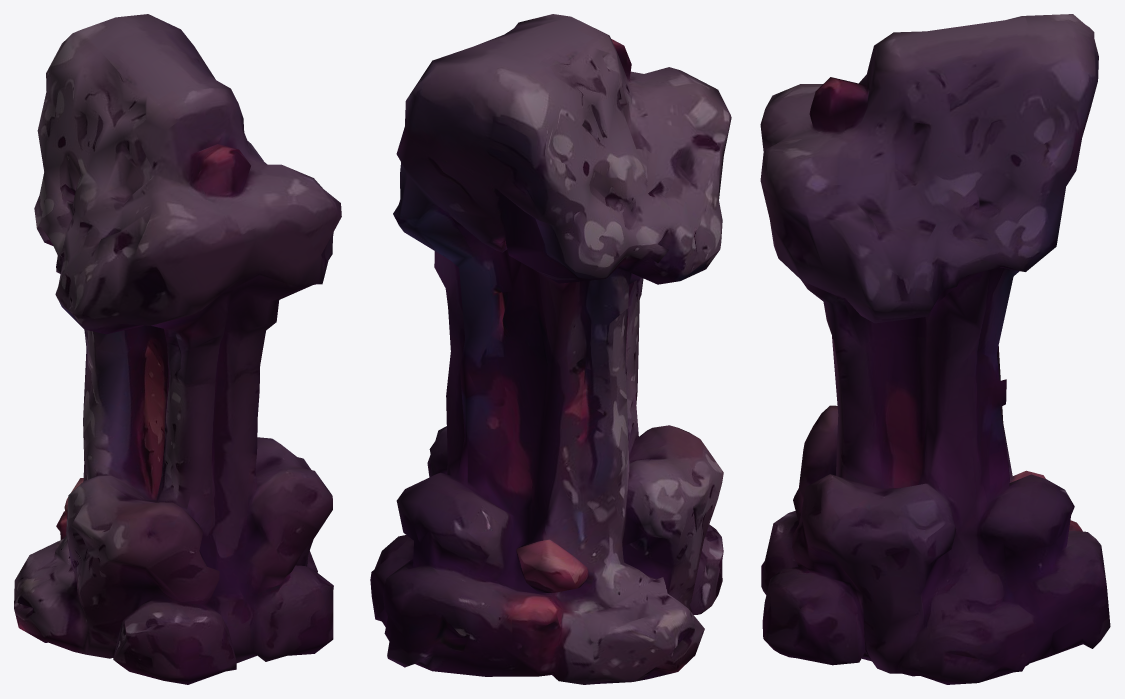
Rendered from cave-pillar.glb.
3 views of the same model, side by side, from view 1: azimuth 30°, elevation 25°; view 2: azimuth 150°, elevation 25°; view 3: azimuth 270°, elevation 25° (orthographic). The views are drawn at different scales.
Visible parts, largest first — view 1: tripo_node_22b96e52-1a63-4348-8482-c325ea6f3005; view 2: tripo_node_22b96e52-1a63-4348-8482-c325ea6f3005; view 3: tripo_node_22b96e52-1a63-4348-8482-c325ea6f3005.
Part boxes in pixels (left/top/right/bottom): tripo_node_22b96e52-1a63-4348-8482-c325ea6f3005: left=14, top=14, right=341, bottom=684; tripo_node_22b96e52-1a63-4348-8482-c325ea6f3005: left=370, top=14, right=731, bottom=684; tripo_node_22b96e52-1a63-4348-8482-c325ea6f3005: left=760, top=14, right=1110, bottom=684.
Size of the model in its own units: 0.5221 by 0.9998 by 0.5322.
Materials: 1 (1 with a texture image).
